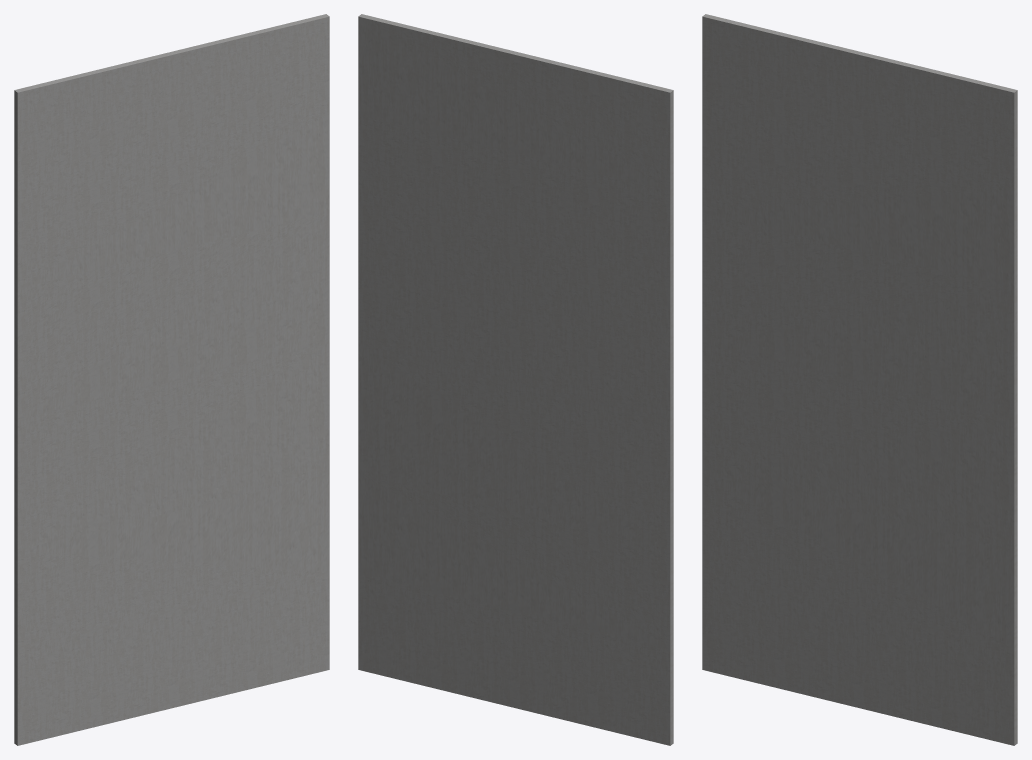
File: 10x5WallNoTrim.fbx
3 views of the same model, side by side, from view 1: azimuth 30°, elevation 25°; view 2: azimuth 150°, elevation 25°; view 3: azimuth 330°, elevation 25° (orthographic).
Visible parts, largest first — view 1: Wall10x5NoTrim; view 2: Wall10x5NoTrim; view 3: Wall10x5NoTrim.
Part boxes in pixels (bbox=[...]): Wall10x5NoTrim: bbox=[14, 14, 329, 745]; Wall10x5NoTrim: bbox=[358, 14, 673, 745]; Wall10x5NoTrim: bbox=[702, 14, 1017, 745].
Bounding box in the file's own units: 500 × 1000 × 9.75.
1 material, 1 textured.
